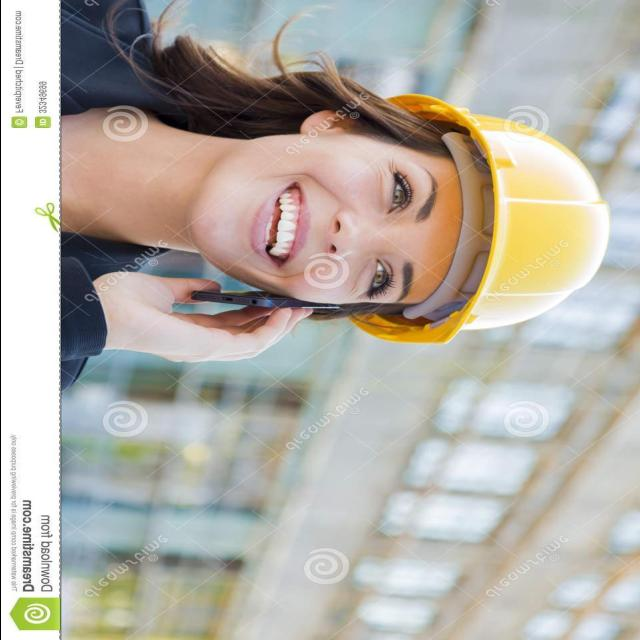helmet: (352, 78, 624, 354)
